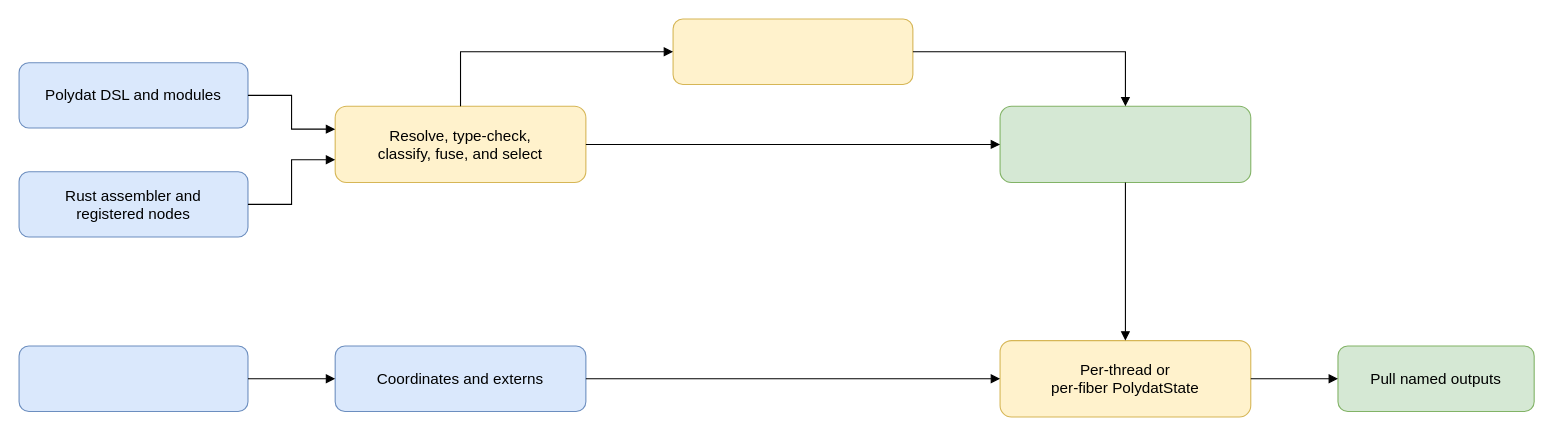
This 1553x436 diagram has some shape labels left out. The shapes that lost their labels are listed below. From the top down, each one's centre as x and y in pixels, then its label:
the point at 792,51: Cranelift native code for eligible cones
the point at 1125,144: Immutable PolydatProgram with mixed execution plan
the point at 133,378: Sources and comprehensions
